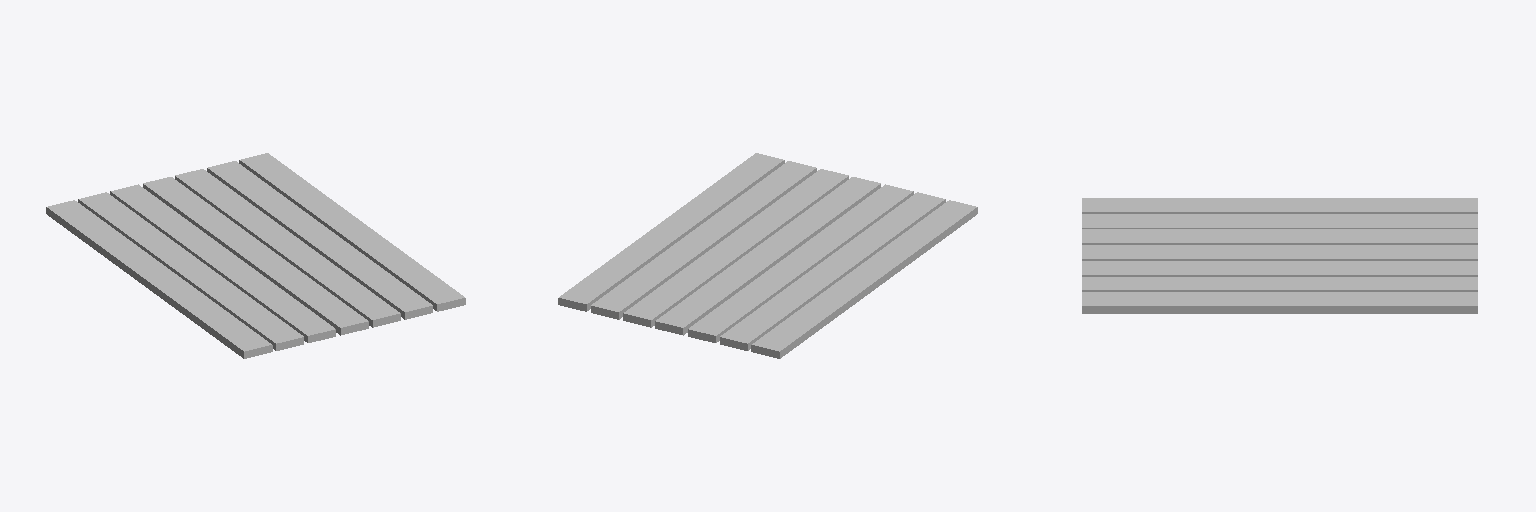
Rendered from gate_main.obj.
The picture shows the model from 3 angles: view 1: azimuth 30°, elevation 25°; view 2: azimuth 150°, elevation 25°; view 3: azimuth 270°, elevation 25°; orthographic projection.
Visible parts, largest first — view 1: pCube13 pCube15, pCube13 pCube11, pCube13 pCube9, pCube13 pCube10, pCube13 pCube12, pCube13 pCube14, pCube13; view 2: pCube13 pCube15, pCube13 pCube11, pCube13 pCube9, pCube13 pCube10, pCube13 pCube12, pCube13 pCube14, pCube13; view 3: pCube13 pCube9, pCube13, pCube13 pCube12, pCube13 pCube11, pCube13 pCube15, pCube13 pCube10, pCube13 pCube14.
Boxes of the visible parts, <box> form: pCube13 pCube15: <box>46,200,272,358</box>; pCube13 pCube11: <box>143,177,368,335</box>; pCube13 pCube9: <box>239,153,465,311</box>; pCube13 pCube10: <box>207,161,432,319</box>; pCube13 pCube12: <box>175,169,400,327</box>; pCube13 pCube14: <box>78,192,303,350</box>; pCube13: <box>110,184,335,342</box>; pCube13 pCube15: <box>751,200,977,358</box>; pCube13 pCube11: <box>655,177,880,335</box>; pCube13 pCube9: <box>558,153,784,311</box>; pCube13 pCube10: <box>591,161,816,319</box>; pCube13 pCube12: <box>623,169,848,327</box>; pCube13 pCube14: <box>720,192,945,350</box>; pCube13: <box>688,184,913,342</box>; pCube13 pCube9: <box>1082,292,1477,313</box>; pCube13: <box>1082,229,1477,244</box>; pCube13 pCube12: <box>1082,261,1477,276</box>; pCube13 pCube11: <box>1082,245,1477,260</box>; pCube13 pCube15: <box>1082,198,1477,213</box>; pCube13 pCube10: <box>1082,277,1477,291</box>; pCube13 pCube14: <box>1082,214,1477,228</box>.
Size of the model in its own units: 7.2 by 0.2332 by 11.13.